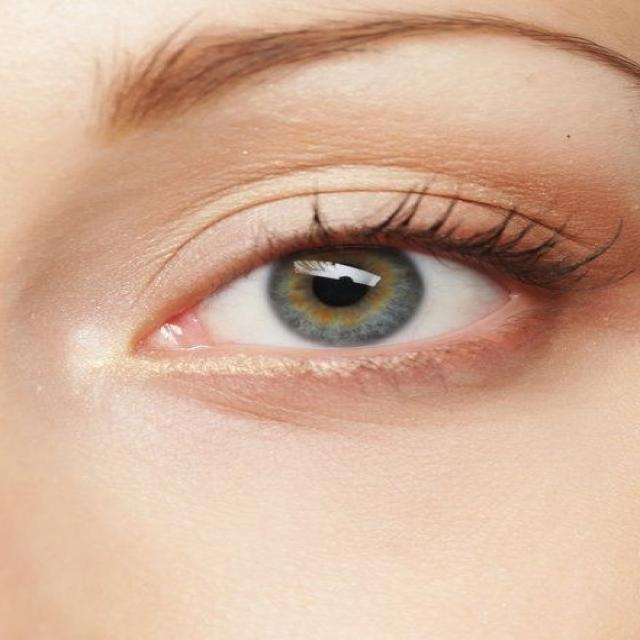Normal: (264, 227, 426, 350)
